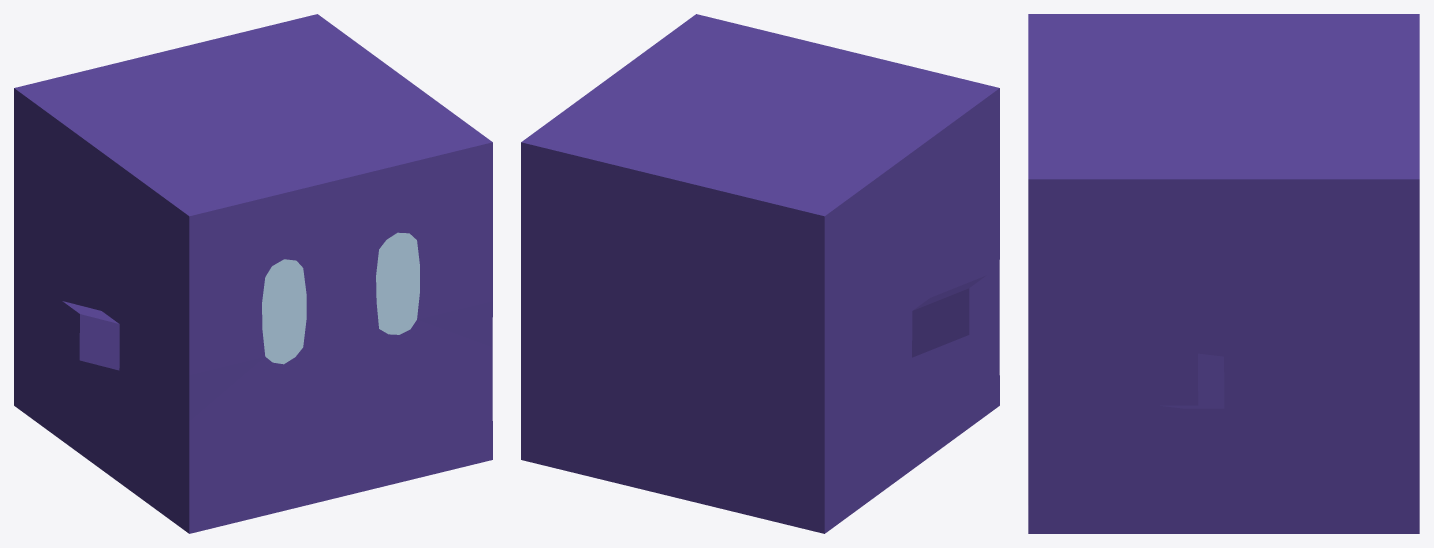
Rendered from cube_minion.dae.
The picture shows the model from 3 angles, left to right: view 1: azimuth 30°, elevation 25°; view 2: azimuth 150°, elevation 25°; view 3: azimuth 270°, elevation 25°; orthographic projection. The views are drawn at different scales.
Parts seen in each view (by area): view 1: Cube; view 2: Cube; view 3: Cube.
Boxes of the visible parts, left/top/right/bottom form: Cube: left=14, top=14, right=492, bottom=533; Cube: left=521, top=14, right=999, bottom=533; Cube: left=1028, top=14, right=1419, bottom=533.
Size of the model in its own units: 2.6 by 2 by 2.
2 materials, 2 textured.
